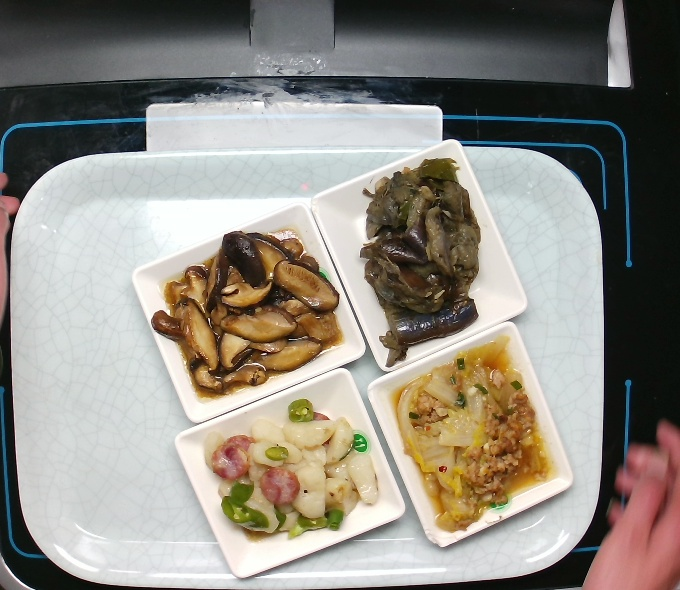wcq-MaTiGuo: (200, 387, 388, 542)
wcq-MoGu: (141, 224, 351, 396)
wcq-QieZi: (351, 152, 489, 374)
wcq-RouMoBaiCai: (381, 332, 562, 540)
